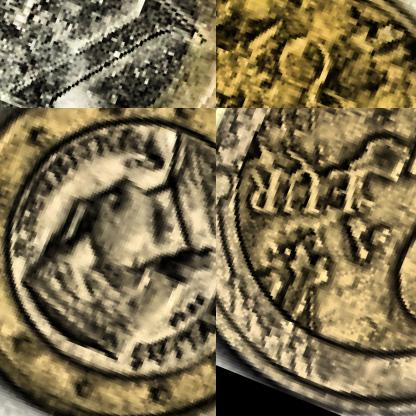coin: (0, 108, 215, 415), (216, 108, 415, 415), (0, 0, 215, 107), (216, 0, 415, 107)
